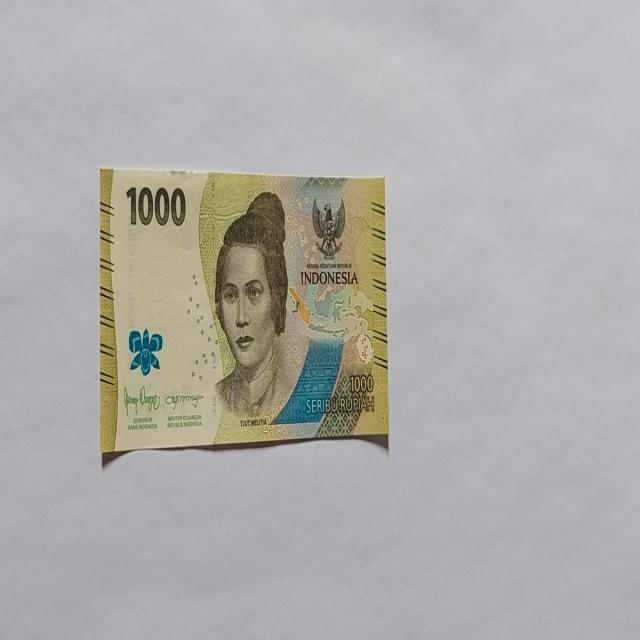seribu rupiah kertas: (98, 166, 388, 459)
